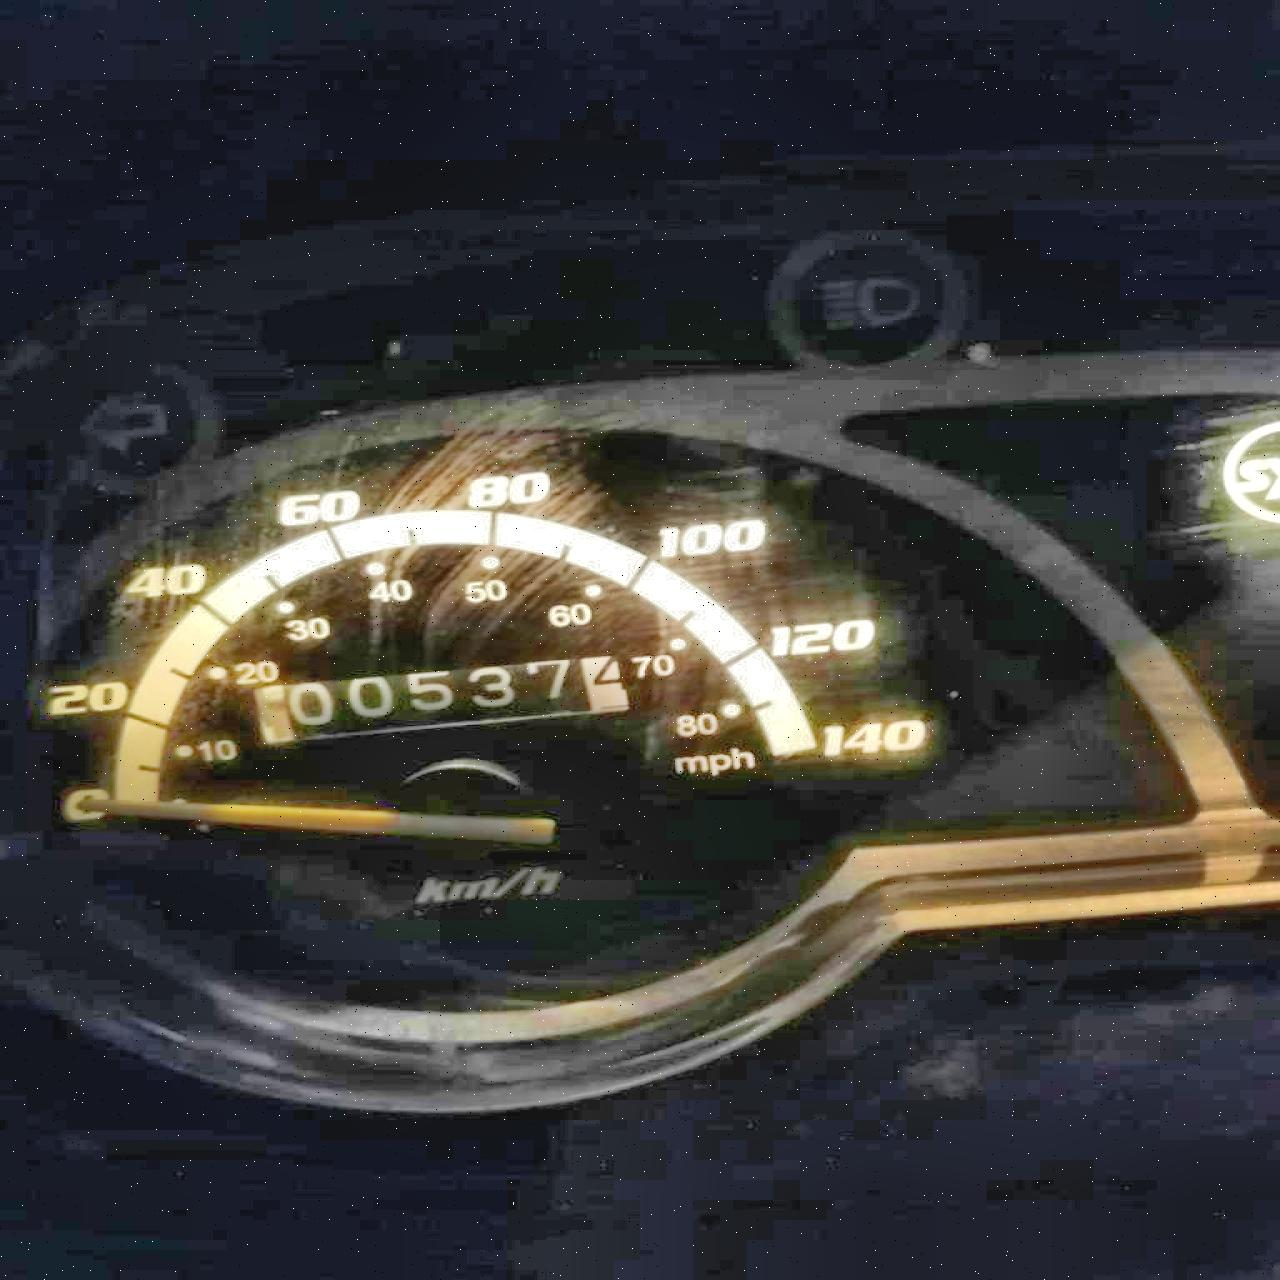0: (343, 675, 395, 720), (285, 681, 333, 722), (256, 660, 281, 681)
2: (233, 660, 254, 686)
3: (465, 665, 515, 707)
4: (578, 652, 629, 703)
5: (404, 669, 454, 709)
7: (523, 656, 570, 699)
odometer: (237, 648, 639, 747)
